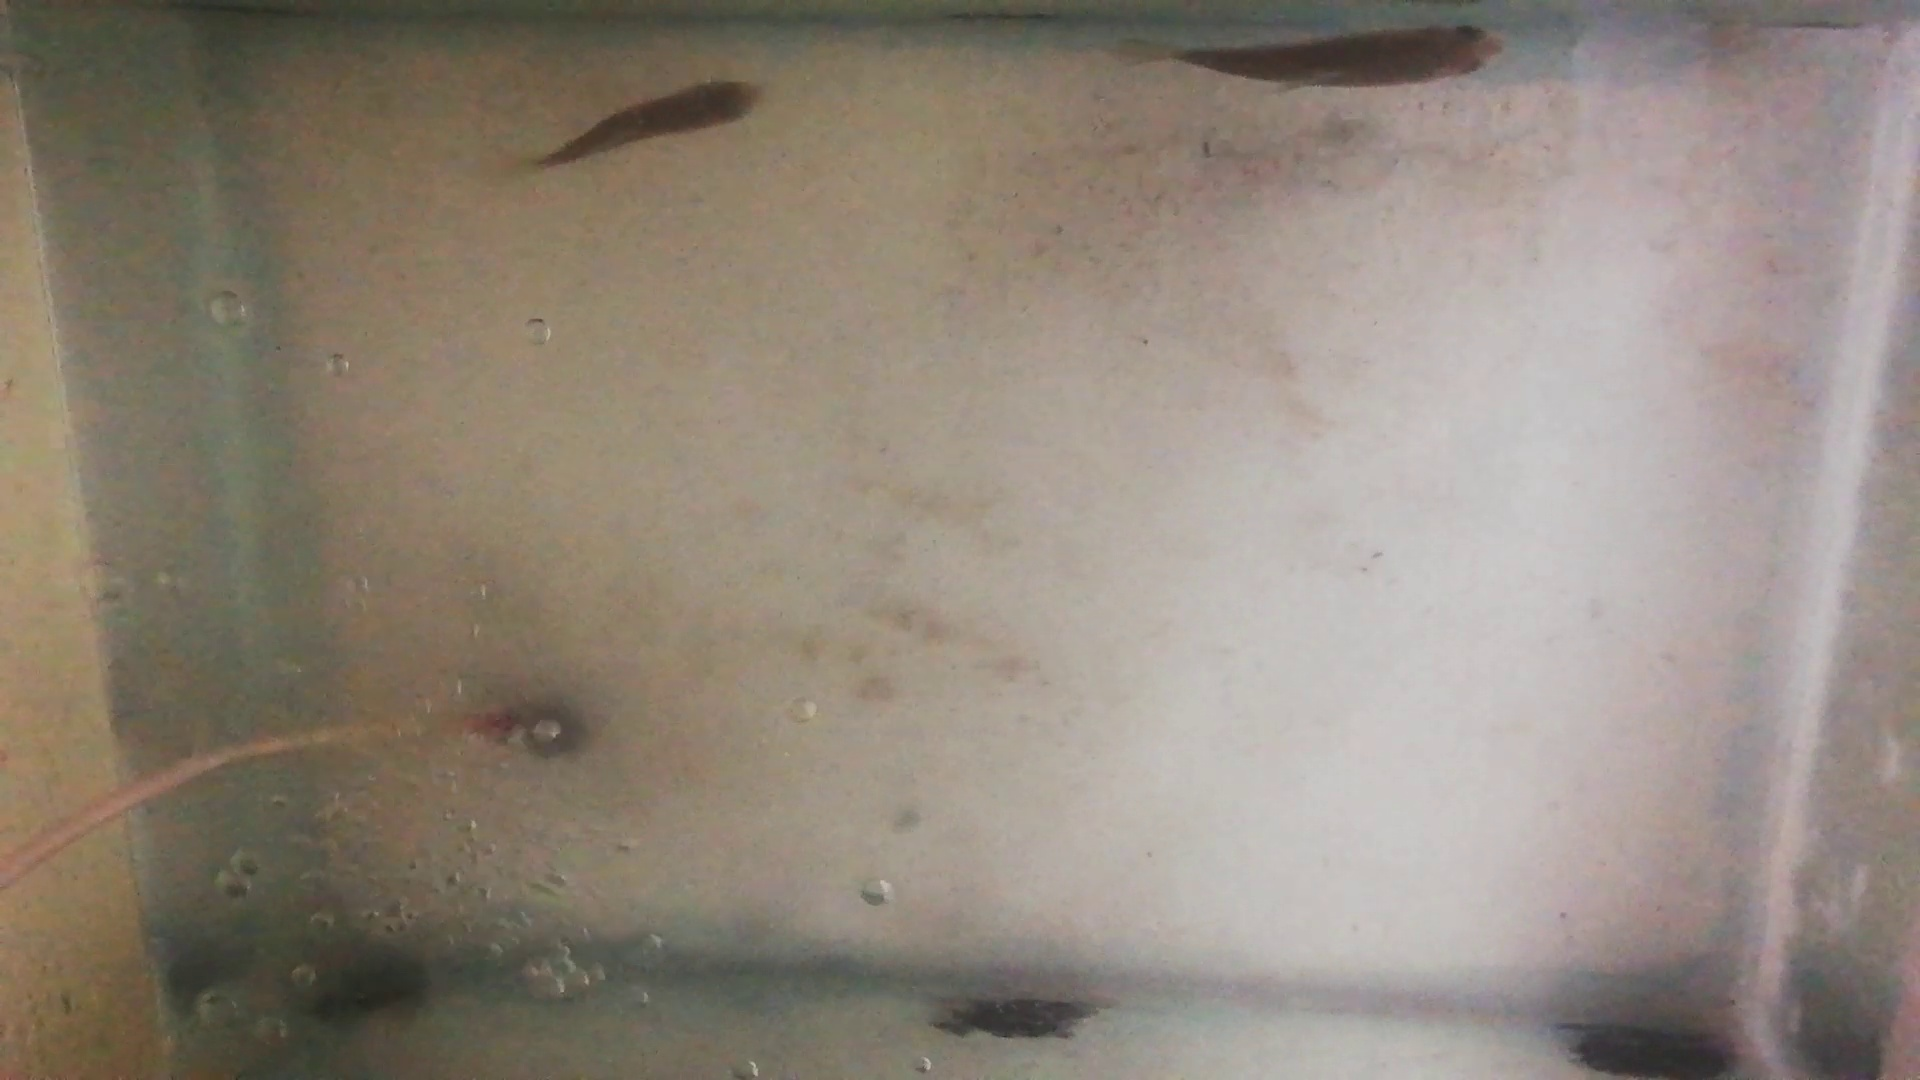fish: (1178, 24, 1509, 88), (541, 80, 762, 167)
